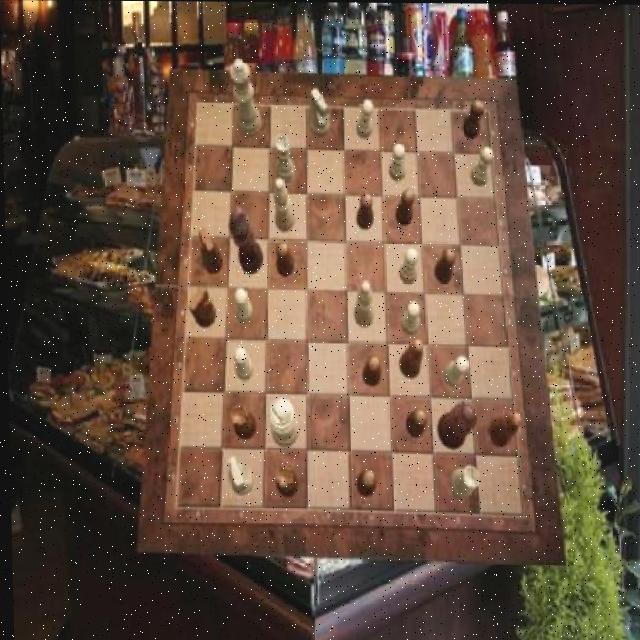bishop: (487, 411, 522, 447), (398, 339, 423, 379)
black-bishop: (228, 208, 263, 275)
black-king: (188, 286, 216, 328), (198, 227, 223, 273)
black-knight: (461, 99, 485, 138), (434, 247, 457, 283), (394, 188, 415, 224), (356, 191, 373, 229), (404, 409, 426, 438), (275, 242, 293, 276), (354, 468, 375, 496), (361, 356, 379, 387)
black-pawn: (434, 401, 475, 449)
black-queen: (230, 405, 255, 439), (273, 466, 296, 499)
black-rook: (274, 179, 295, 233), (352, 280, 373, 326)
white-bishop: (267, 399, 298, 446)
white-king: (309, 88, 330, 137), (225, 457, 252, 495)
white-knight: (470, 146, 494, 185), (443, 355, 468, 387), (355, 99, 374, 139), (398, 248, 418, 284), (388, 142, 406, 181), (233, 346, 252, 380), (400, 301, 419, 335), (233, 289, 251, 324)
white-pawn: (230, 58, 262, 137)
white-queen: (447, 464, 477, 499), (275, 135, 296, 183)
